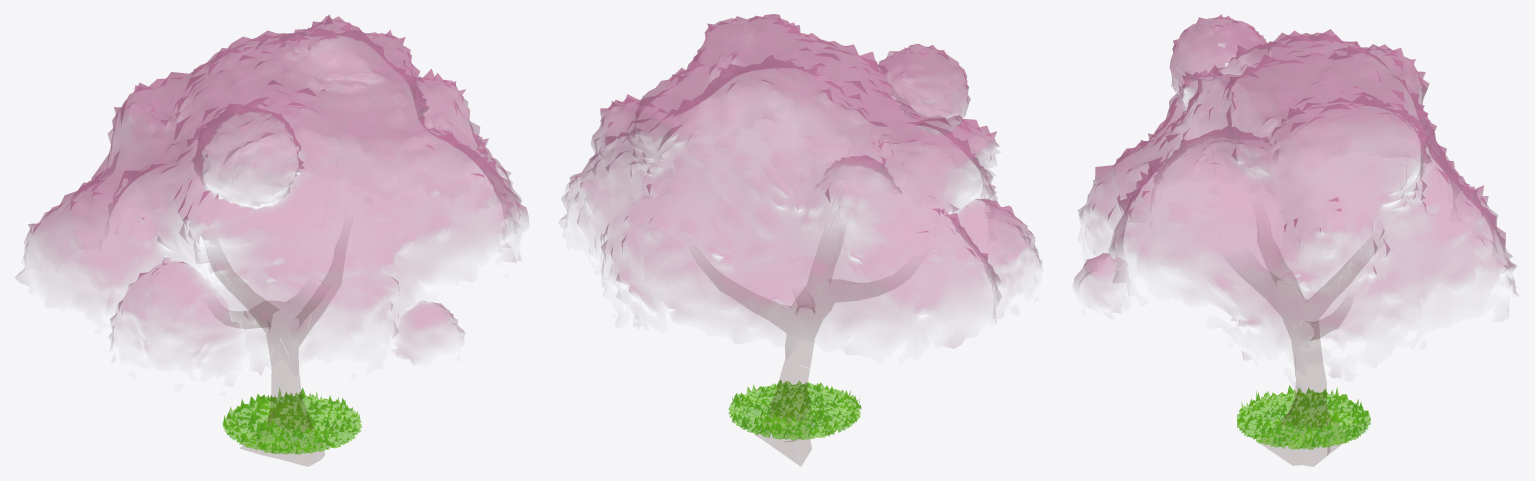
Rendered from sakura tree.gltf.
The picture shows the model from 3 angles, left to right: view 1: azimuth 30°, elevation 25°; view 2: azimuth 150°, elevation 25°; view 3: azimuth 270°, elevation 25°; orthographic projection. The views are drawn at different scales.
Parts seen in each view (by area): view 1: sakura blossom main, grass, sakura tree trunk; view 2: sakura blossom main, grass, sakura tree trunk; view 3: sakura blossom main, grass, sakura tree trunk.
Part boxes in pixels (left/top/right/bottom): sakura blossom main: left=15, top=14, right=528, bottom=361; grass: left=222, top=387, right=361, bottom=454; sakura tree trunk: left=214, top=265, right=334, bottom=466; sakura blossom main: left=560, top=14, right=1041, bottom=347; grass: left=728, top=380, right=861, bottom=440; sakura tree trunk: left=713, top=279, right=882, bottom=465; sakura blossom main: left=1073, top=14, right=1517, bottom=377; grass: left=1237, top=385, right=1370, bottom=449; sakura tree trunk: left=1249, top=235, right=1365, bottom=466.
Bounding box in the file's own units: 13.54 × 12.02 × 11.75.
3 materials, 3 textured.
